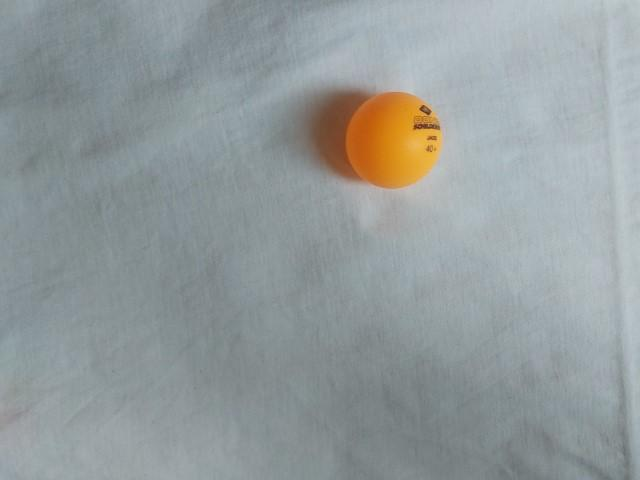oball: (336, 85, 456, 197)
